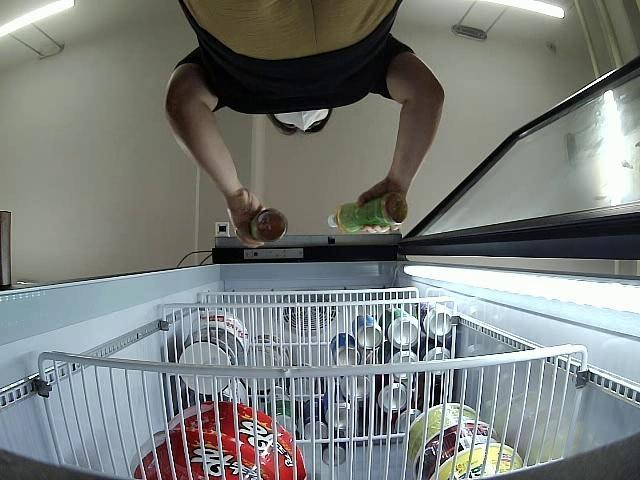19_17cha: (323, 192, 407, 234), (248, 206, 288, 247)
